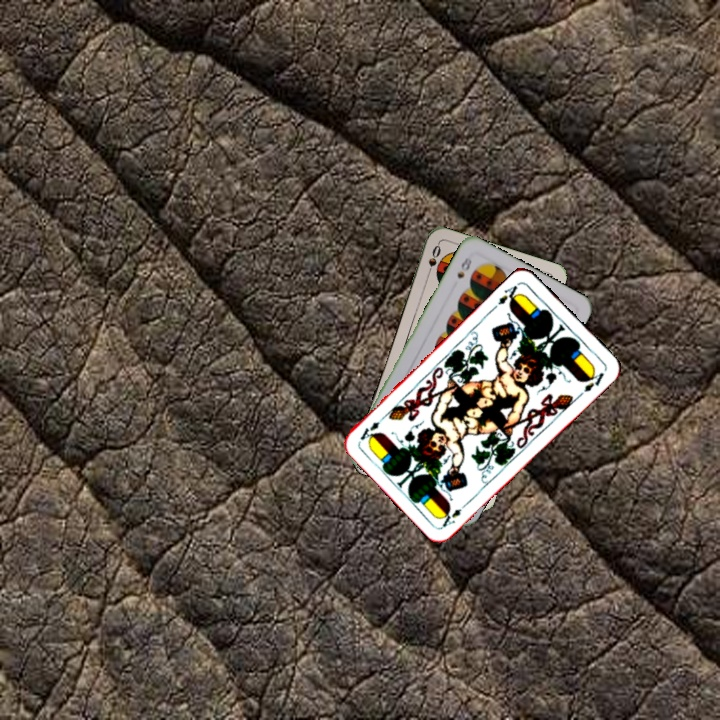EA: (437, 498, 471, 529), (493, 279, 523, 308)
S8: (453, 252, 476, 281)
SO: (422, 240, 443, 280)
